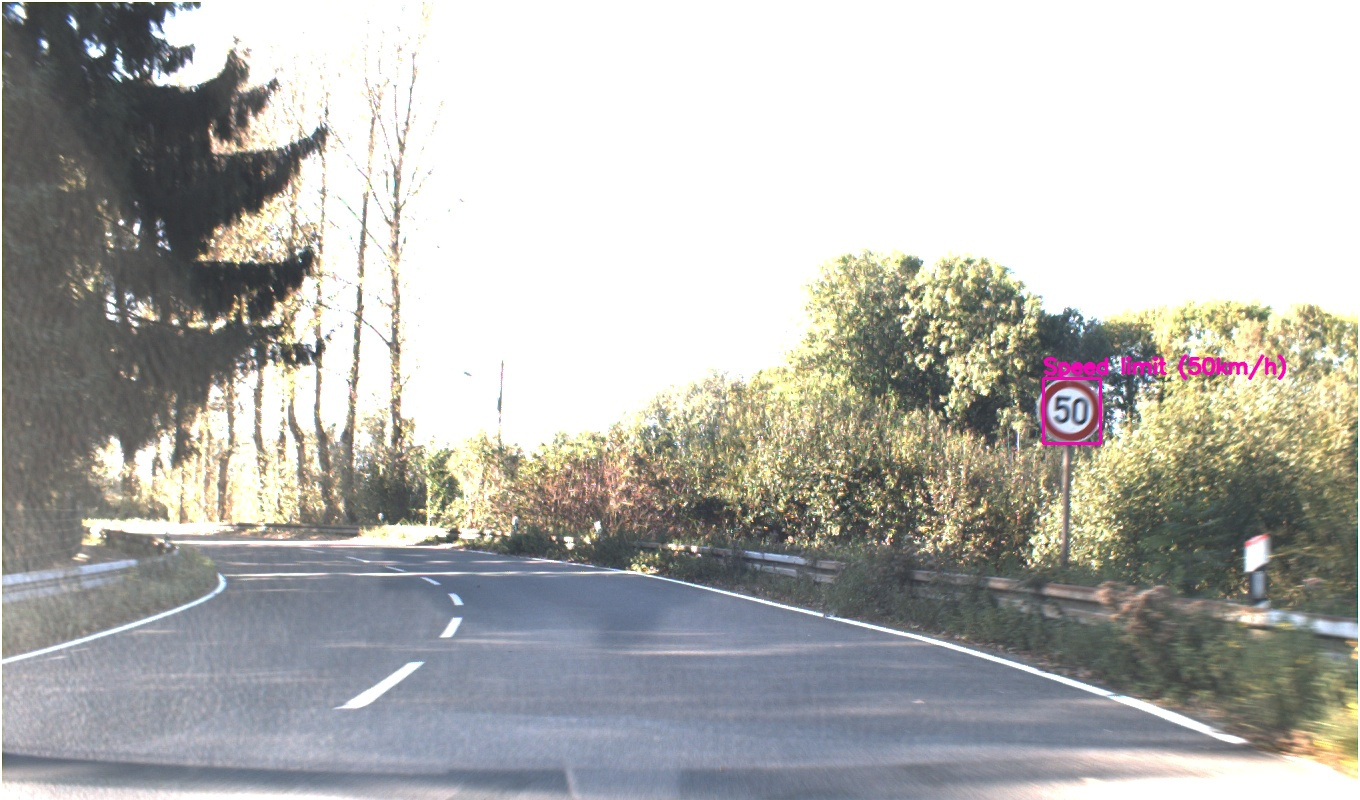Roundabout mandatory: (734, 463, 767, 497)
Yield: (731, 422, 772, 459)
